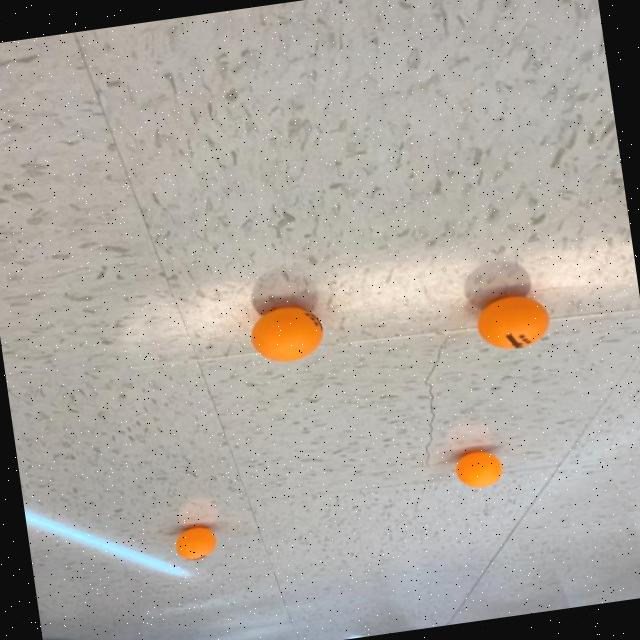ping-pong-ball: (464, 287, 557, 358), (238, 300, 330, 368), (449, 446, 506, 493), (167, 520, 224, 565)
